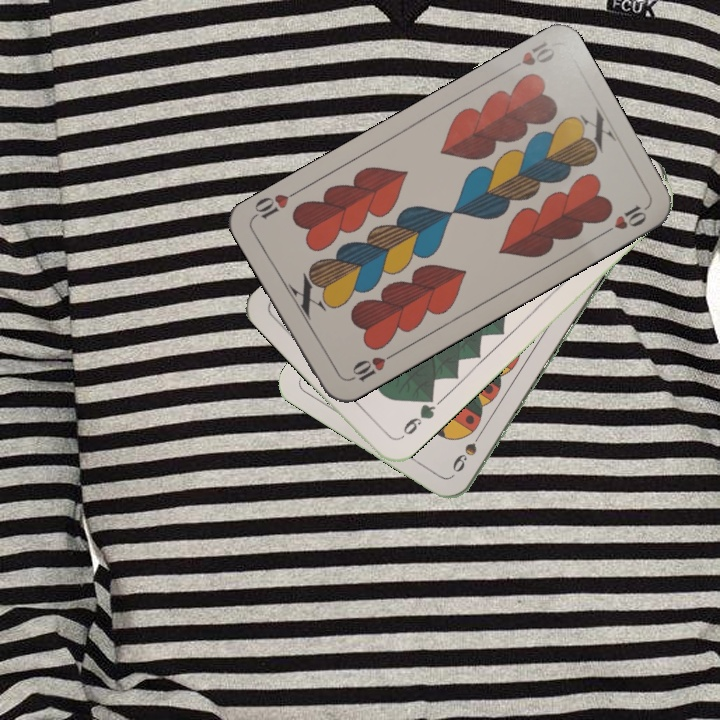G9: (395, 391, 439, 443)
H10: (502, 37, 558, 75), (344, 348, 398, 384)
S9: (448, 424, 487, 475)
